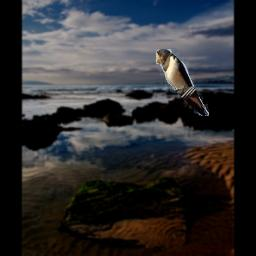Swallow: (155, 49, 209, 116)
